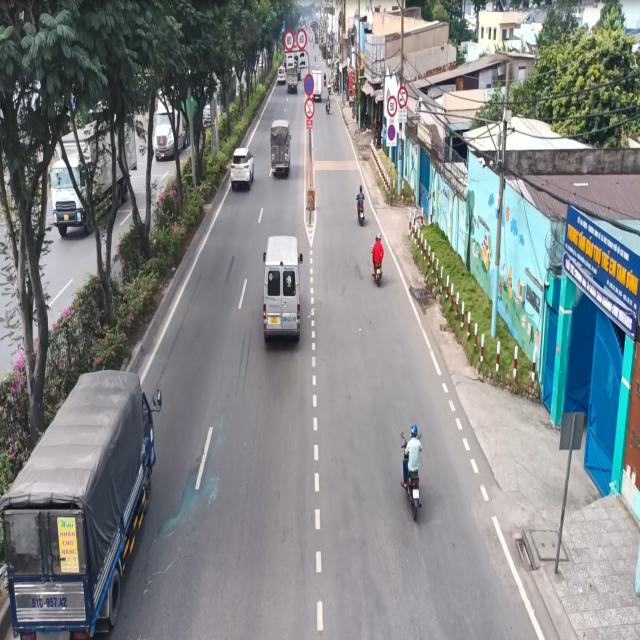car: (257, 224, 306, 347), (230, 137, 252, 192)
motor: (395, 414, 427, 525), (354, 178, 369, 235), (368, 234, 384, 282)
truck: (0, 369, 172, 640), (264, 111, 291, 177)
